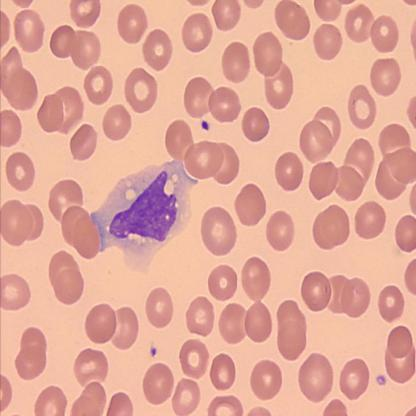Monocyte: (88, 153, 200, 277)
